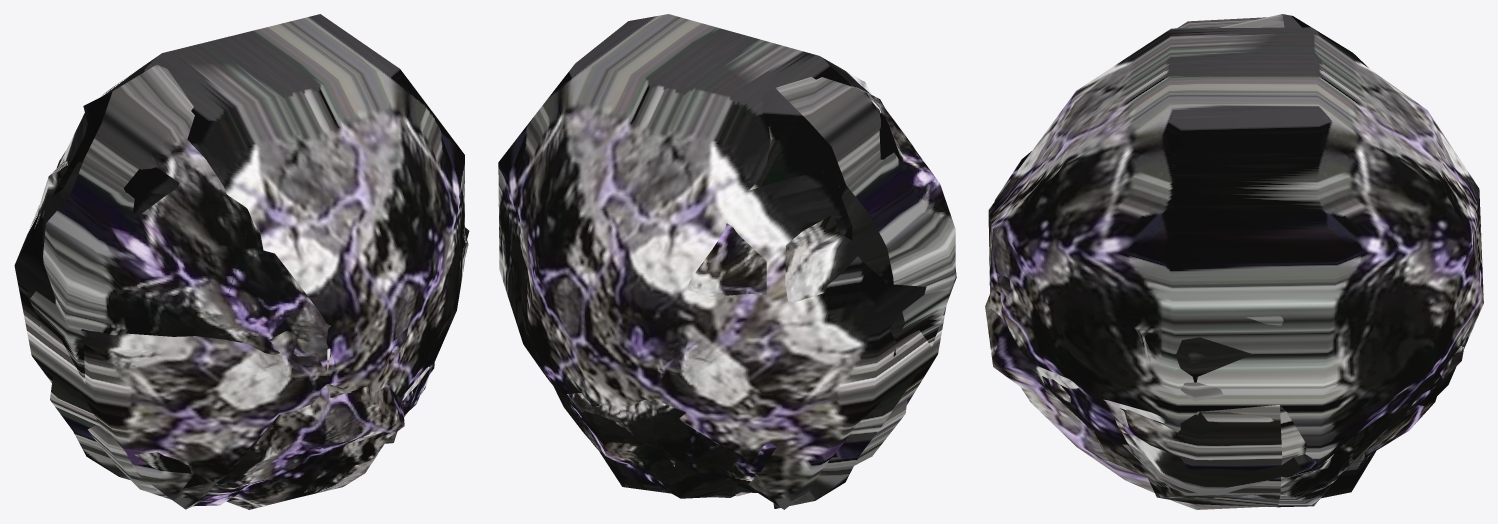
Rendered from sd_ast_titan.glb.
The picture shows the model from 3 angles, left to right: view 1: azimuth 30°, elevation 25°; view 2: azimuth 150°, elevation 25°; view 3: azimuth 270°, elevation 25°; orthographic projection. The views are drawn at different scales.
Parts seen in each view (by area): view 1: PICK_titan, AST_titan_2, AST_titan_3, AST_titan_1; view 2: PICK_titan, AST_titan_2, AST_titan_3, AST_titan_1; view 3: PICK_titan, AST_titan_2, AST_titan_3, AST_titan_1.
Boxes of the visible parts, x1,y1,x2,y2 form: PICK_titan: (14,14,464,509); AST_titan_2: (37,64,469,443); AST_titan_3: (88,348,429,509); AST_titan_1: (27,230,468,479); PICK_titan: (498,14,945,509); AST_titan_2: (552,77,955,496); AST_titan_3: (567,393,906,498); AST_titan_1: (655,269,956,508); PICK_titan: (988,27,1483,472); AST_titan_2: (994,14,1403,507); AST_titan_3: (985,294,1464,509); AST_titan_1: (998,270,1283,422).
Size of the model in its own units: 1.05 by 1.05 by 1.08.
Materials: 1 (1 with a texture image).
